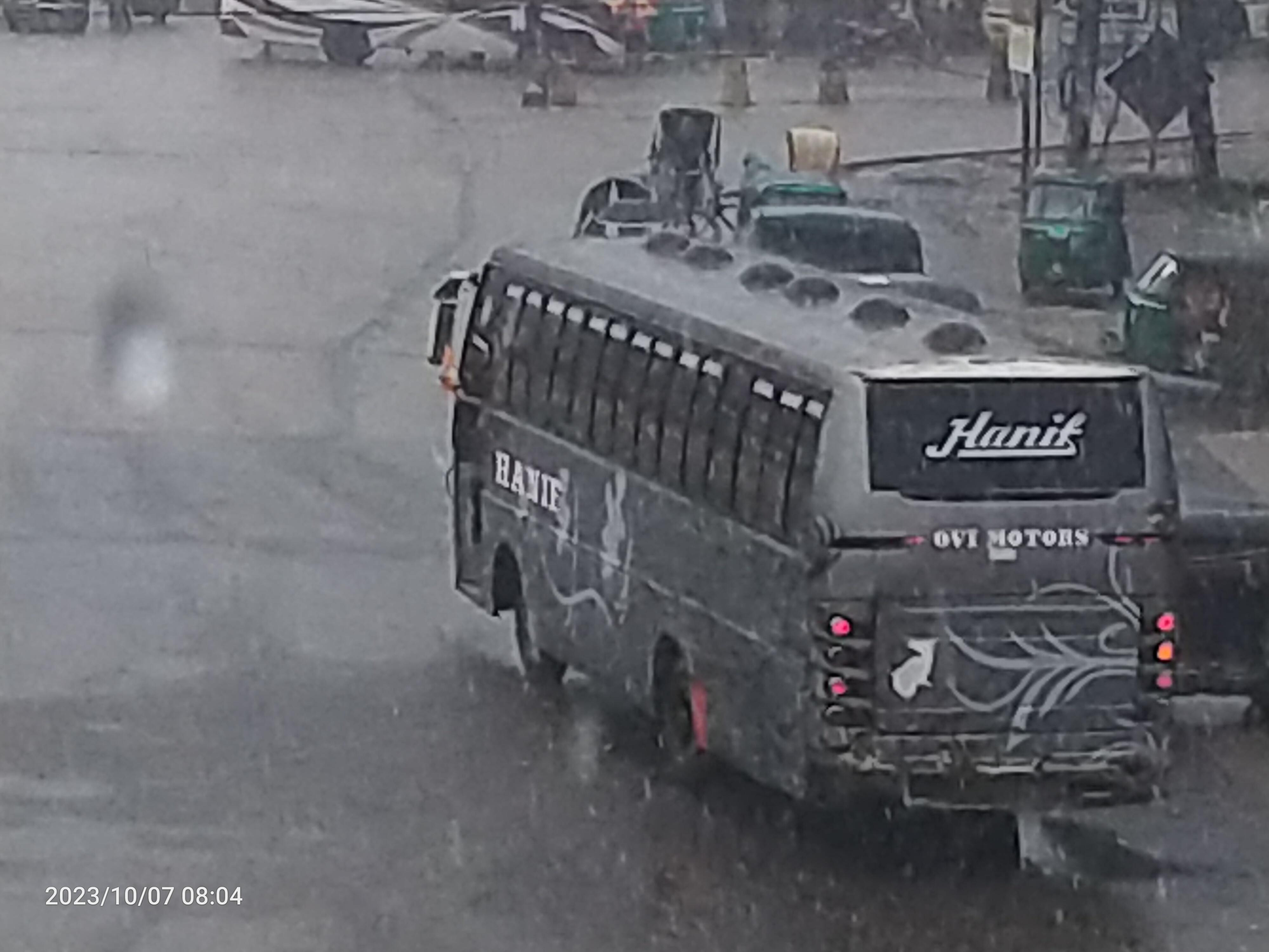Bus: (369, 199, 1234, 872), (192, 0, 680, 66)
Car: (624, 80, 742, 255)
